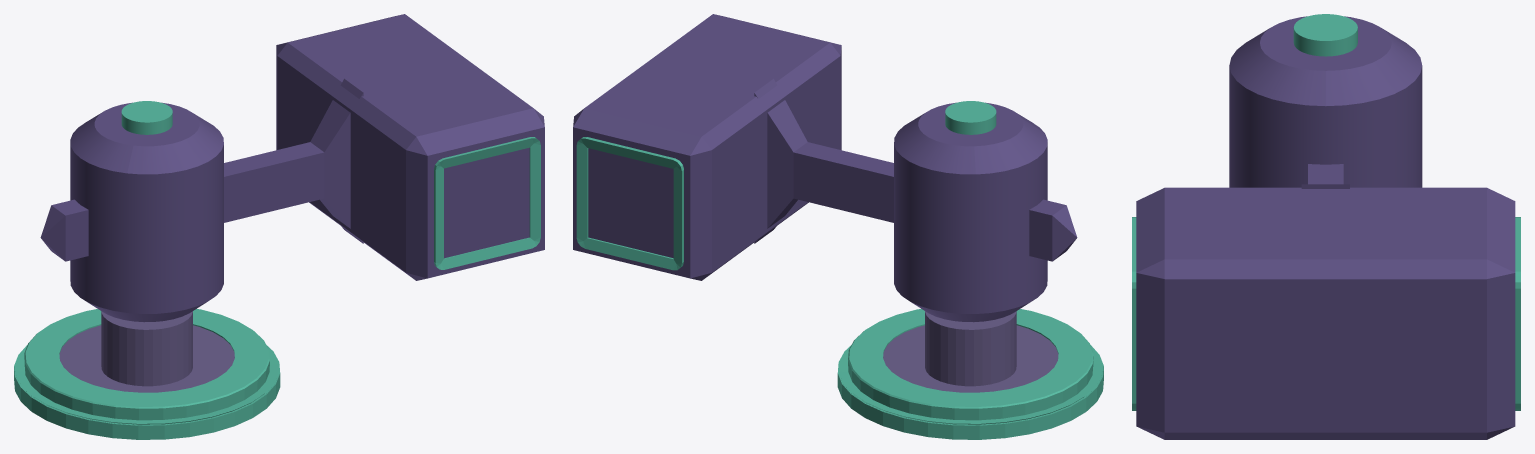
File: hammer.fbx
The picture shows the model from 3 angles, left to right: view 1: azimuth 30°, elevation 25°; view 2: azimuth 150°, elevation 25°; view 3: azimuth 270°, elevation 25°; orthographic projection. The views are drawn at different scales.
Parts seen in each view (by area): view 1: Cube.004, Cylinder.001, Circle.002, Cube.003, Cylinder.002, Circle, Cylinder; view 2: Cube.004, Cylinder.001, Circle.002, Cube.003, Cylinder.002, Circle.001, Cylinder; view 3: Cube.004, Cylinder.001, Cylinder, Circle.001, Circle, Cube.003.
Boxes of the visible parts, <box> form: Cube.004: <box>276,14,544,280</box>; Cylinder.001: <box>70,102,223,322</box>; Circle.002: <box>14,309,280,439</box>; Cube.003: <box>40,78,363,261</box>; Cylinder.002: <box>59,311,234,392</box>; Circle: <box>434,137,540,269</box>; Cylinder: <box>121,101,172,134</box>; Cube.004: <box>573,14,841,280</box>; Cylinder.001: <box>894,102,1047,322</box>; Circle.002: <box>837,309,1103,439</box>; Cube.003: <box>754,78,1077,261</box>; Cylinder.002: <box>883,311,1058,392</box>; Circle.001: <box>576,137,683,270</box>; Cylinder: <box>945,101,996,134</box>; Cube.004: <box>1136,187,1515,439</box>; Cylinder.001: <box>1229,16,1422,187</box>; Cylinder: <box>1293,14,1357,56</box>; Circle.001: <box>1515,217,1520,410</box>; Circle: <box>1132,217,1136,410</box>; Cube.003: <box>1301,164,1349,188</box>.
Bounding box in the file's own units: 196 × 114 × 118.
